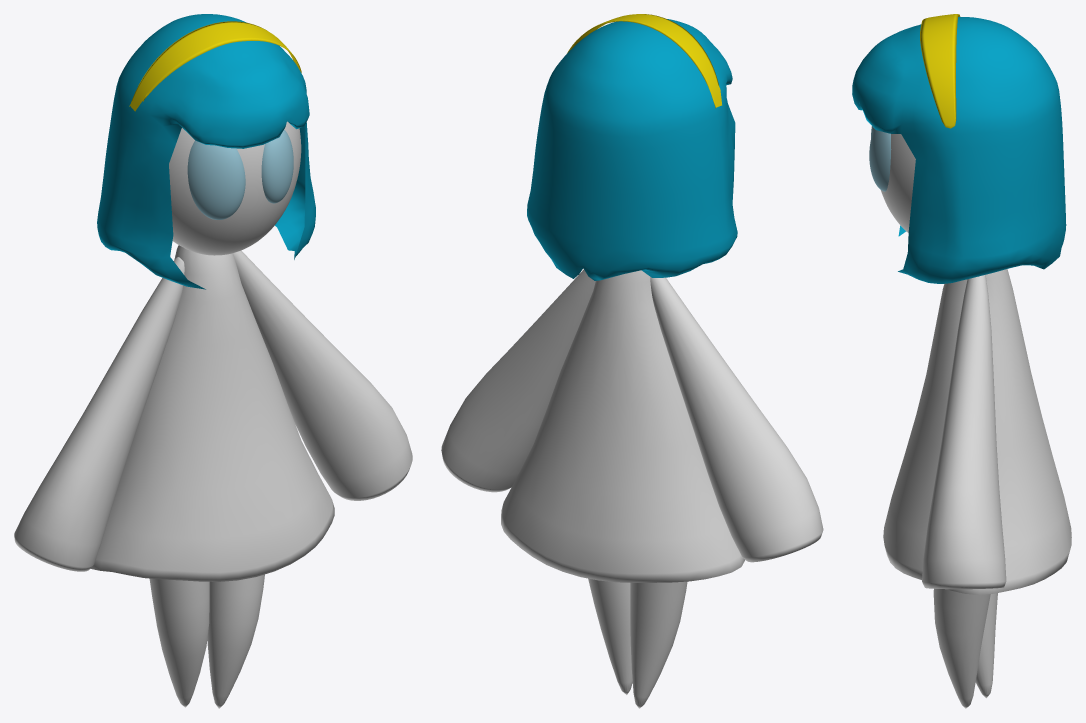
File: Anim_menu1.fbx
3 views of the same model, side by side, from view 1: azimuth 30°, elevation 25°; view 2: azimuth 150°, elevation 25°; view 3: azimuth 270°, elevation 25° (orthographic). The views are drawn at different scales.
Visible parts, largest first — view 1: pCylinder1, pSphere3, polySurface1, polySurface2, pSphere1, polySurface4, polySurface3, polySurface5, pSphere4, polySurface6; view 2: pCylinder1, pSphere3, polySurface2, polySurface1, polySurface4, polySurface3, pSphere4; view 3: pSphere3, pCylinder1, polySurface1, polySurface3, pSphere4, pSphere1, polySurface4, polySurface6.
Boxes of the visible parts, box(x1,y1,x2,y2) form: pCylinder1: box(90, 245, 334, 581); pSphere3: box(97, 14, 315, 289); polySurface1: box(233, 250, 412, 500); polySurface2: box(14, 257, 184, 571); pSphere1: box(169, 121, 301, 255); polySurface4: box(149, 578, 209, 707); polySurface3: box(207, 574, 264, 708); polySurface5: box(187, 140, 245, 219); pSphere4: box(129, 21, 301, 111); polySurface6: box(261, 129, 293, 203); pCylinder1: box(501, 270, 744, 582); pSphere3: box(527, 19, 737, 280); polySurface2: box(650, 277, 823, 562); polySurface1: box(441, 269, 595, 492); polySurface4: box(630, 581, 687, 708); polySurface3: box(588, 578, 632, 694); pSphere4: box(567, 14, 721, 108); pSphere3: box(852, 16, 1066, 283); pCylinder1: box(883, 269, 1071, 594); polySurface1: box(922, 275, 1006, 589); polySurface3: box(933, 589, 990, 708); pSphere4: box(920, 14, 960, 128); pSphere1: box(881, 134, 915, 232); polySurface4: box(975, 593, 997, 698); polySurface6: box(869, 129, 891, 191).
Size of the model in its own units: 11.16 by 19.21 by 5.6.
